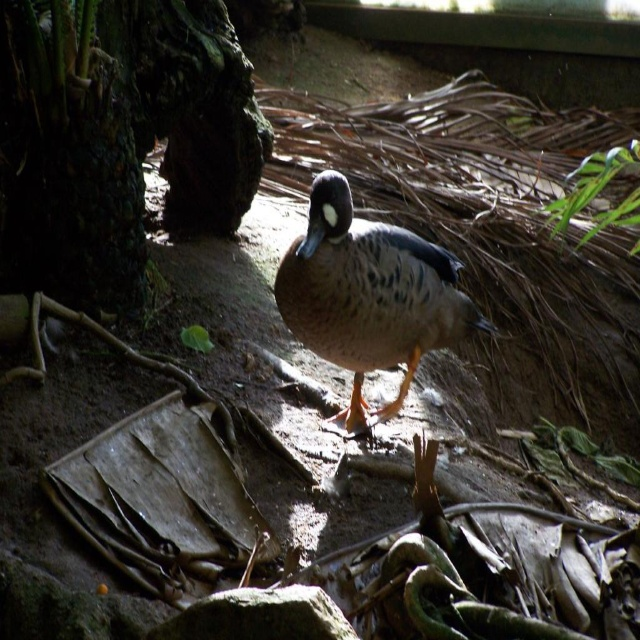Duck: (279, 167, 498, 436)
